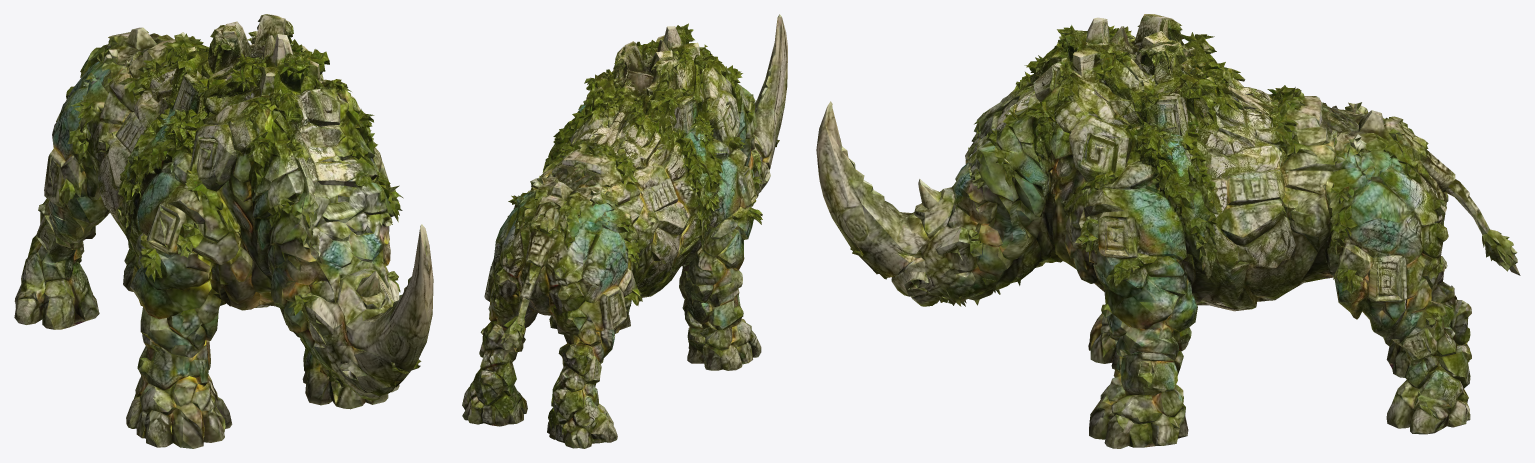
The model's file is ruinhorn.glb.
3 views of the same model, side by side, from view 1: azimuth 30°, elevation 25°; view 2: azimuth 150°, elevation 25°; view 3: azimuth 270°, elevation 25° (orthographic). The views are drawn at different scales.
Visible parts, largest first — view 1: Mesh_0; view 2: Mesh_0; view 3: Mesh_0.
Boxes of the visible parts, x1,y1,x2,y2 form: Mesh_0: (14, 14, 433, 448); Mesh_0: (462, 14, 787, 448); Mesh_0: (816, 14, 1520, 448).
Size of the model in its own units: 0.7747 by 1.1 by 1.9.
1 material, 1 textured.
